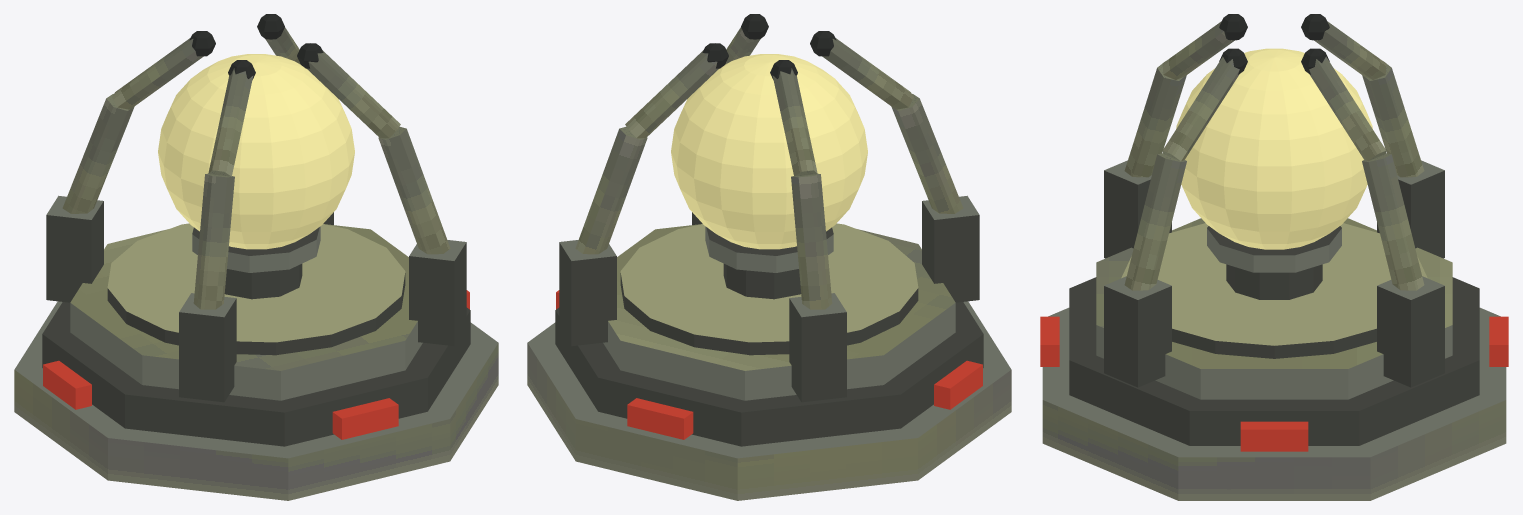
Rendered from Building_UnstablePowerCell.glb.
The picture shows the model from 3 angles, left to right: view 1: azimuth 30°, elevation 25°; view 2: azimuth 150°, elevation 25°; view 3: azimuth 270°, elevation 25°; orthographic projection. The views are drawn at different scales.
Parts seen in each view (by area): view 1: UnstablePowerCell; view 2: UnstablePowerCell; view 3: UnstablePowerCell.
Part boxes in pixels (<box>): UnstablePowerCell: <box>14,14,498,500</box>; UnstablePowerCell: <box>527,14,1011,500</box>; UnstablePowerCell: <box>1040,14,1508,500</box>.
Bounding box in the file's own units: 0.97 × 0.85 × 0.97.
Materials: 1 (1 with a texture image).
